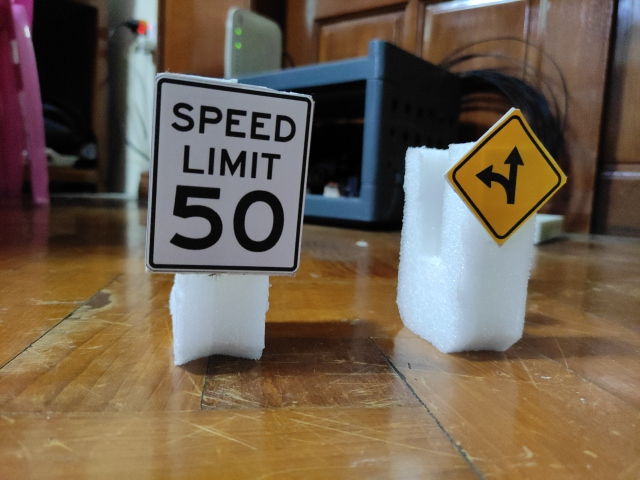Speed Limit 50: (147, 76, 315, 275)
Straight Or Left Sign: (449, 111, 564, 241)
